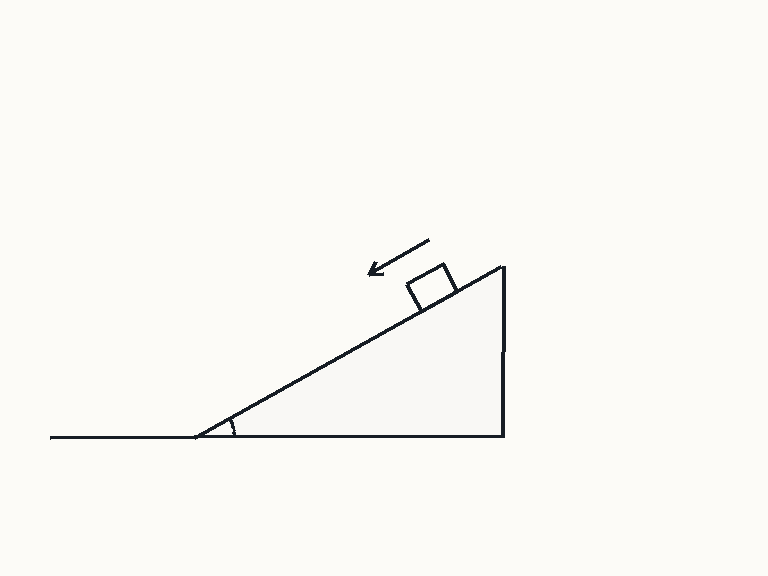block: (404, 262, 460, 313)
ramp: (192, 264, 504, 439)
